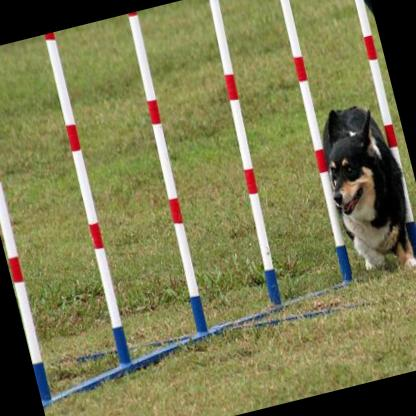Cardigan: (309, 93, 416, 283)
